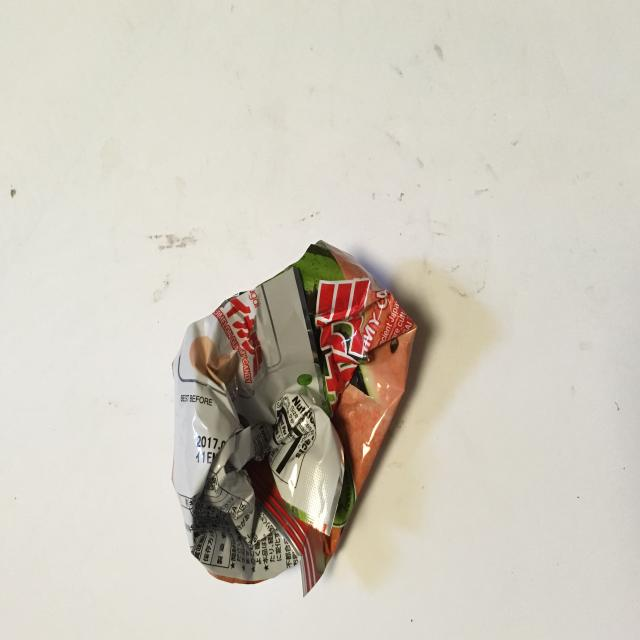plastic: (171, 239, 417, 597)
